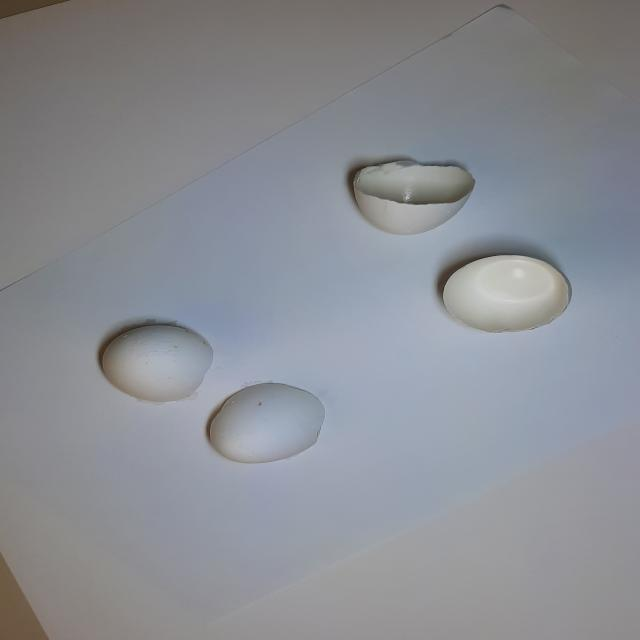egg shell: (434, 250, 580, 342), (342, 154, 487, 244), (205, 380, 328, 468), (95, 318, 216, 407)
